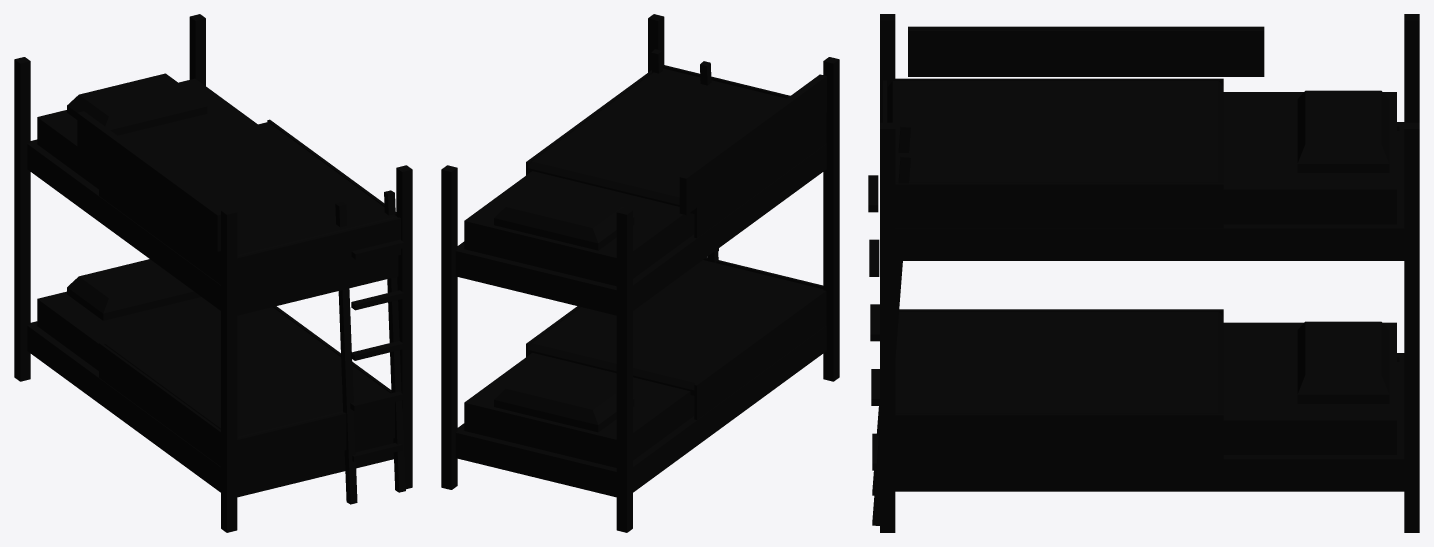
File: SM_bunk_bed_pine.fbx
3 views of the same model, side by side, from view 1: azimuth 30°, elevation 25°; view 2: azimuth 150°, elevation 25°; view 3: azimuth 270°, elevation 25° (orthographic). The views are drawn at different scales.
Visible parts, largest first — view 1: bunk_bed_pine; view 2: bunk_bed_pine; view 3: bunk_bed_pine.
Boxes of the visible parts, x1,y1,x2,y2 form: bunk_bed_pine: [14, 14, 412, 532]; bunk_bed_pine: [441, 14, 839, 532]; bunk_bed_pine: [868, 14, 1419, 532].
Bounding box in the file's own units: 1.07 × 1.75 × 2.17.
